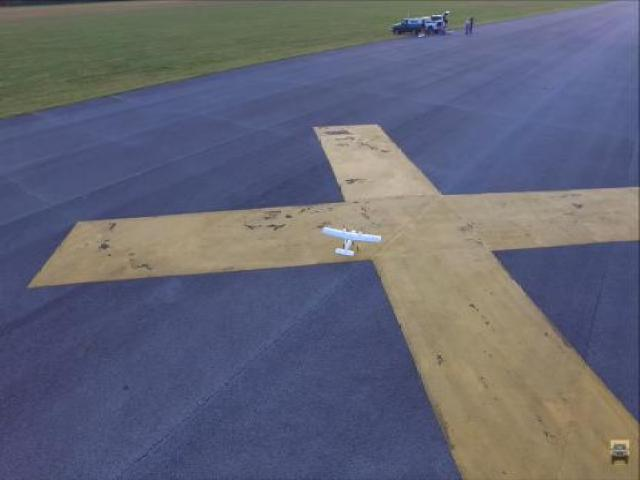uav: (321, 225, 382, 258)
